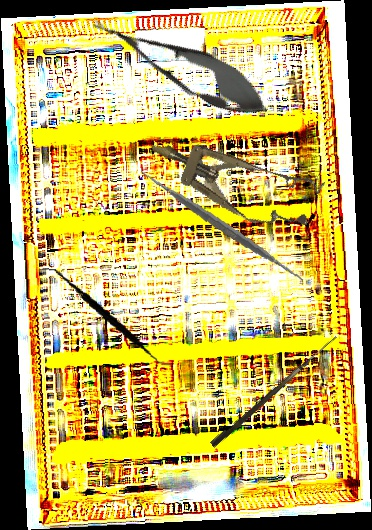Hook Surgical: (209, 330, 338, 450)
Micro Scissor: (83, 1, 279, 131)
Spatula Surgical: (139, 144, 305, 307), (31, 267, 182, 367)
Speculum: (140, 117, 326, 243)
